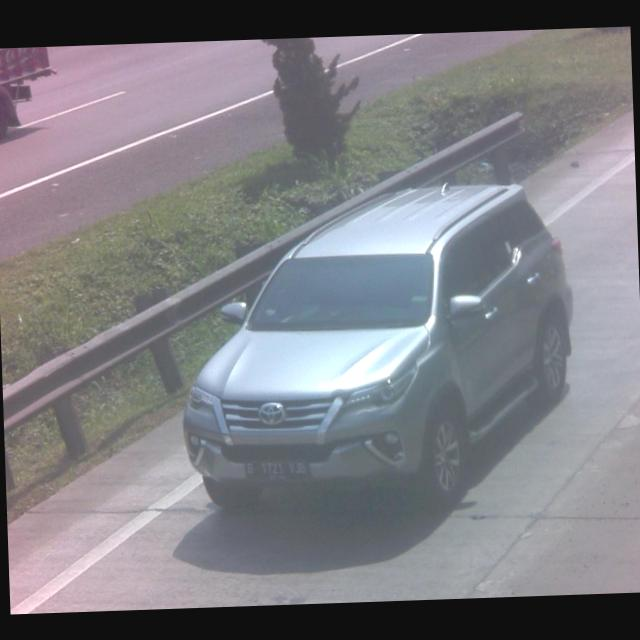plate: (239, 456, 313, 484)
